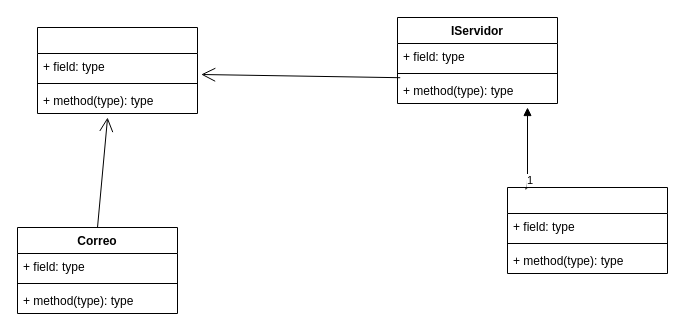
Some shapes in this 685 by 334 pixel diagram are drawn without their labels. Here are the shapes that lost their labels. From the top down, the box of each, then its label:
(36, 26, 198, 114): ClienteEmail
(506, 186, 668, 274): ServidorPop
